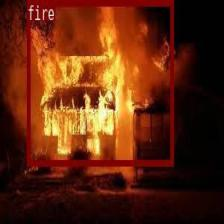fire: (27, 0, 173, 165)
